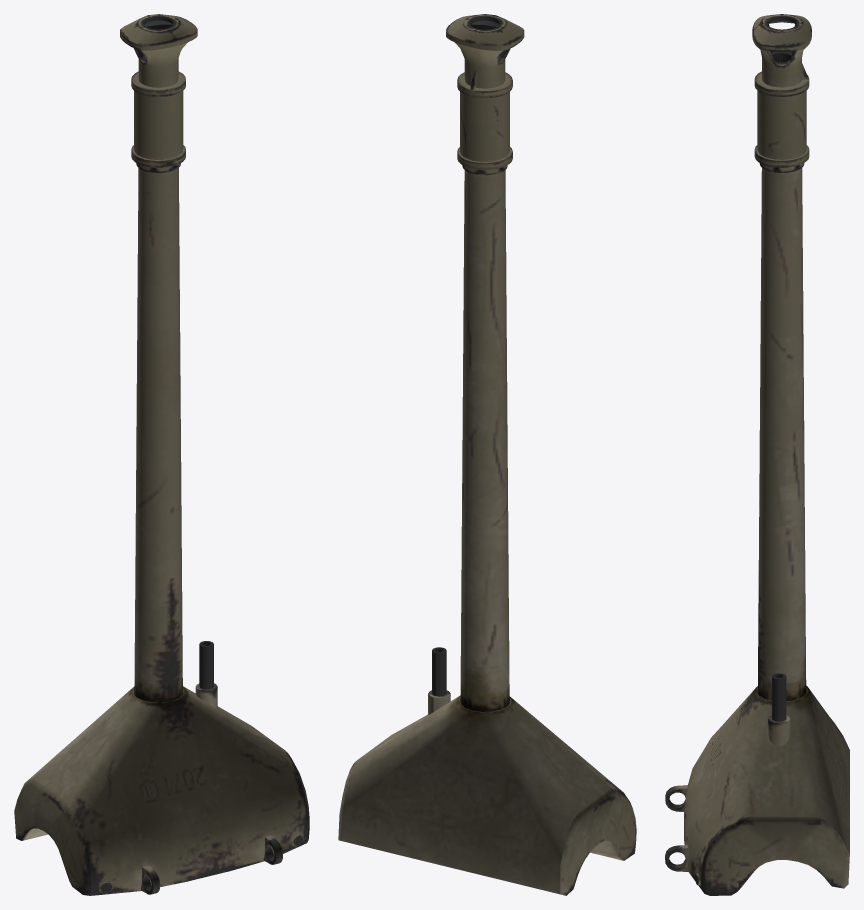
Rendered from Gun_01.glb.
The picture shows the model from 3 angles, left to right: view 1: azimuth 30°, elevation 25°; view 2: azimuth 150°, elevation 25°; view 3: azimuth 270°, elevation 25°; orthographic projection.
Parts seen in each view (by area): view 1: set_0_group_0; view 2: set_0_group_0; view 3: set_0_group_0.
Boxes of the visible parts, <box> form: set_0_group_0: <box>14,14,309,895</box>; set_0_group_0: <box>338,14,636,895</box>; set_0_group_0: <box>665,14,849,895</box>.
Bounding box in the file's own units: 0.923 × 3.19 × 0.6531.
Materials: 1 (1 with a texture image).
